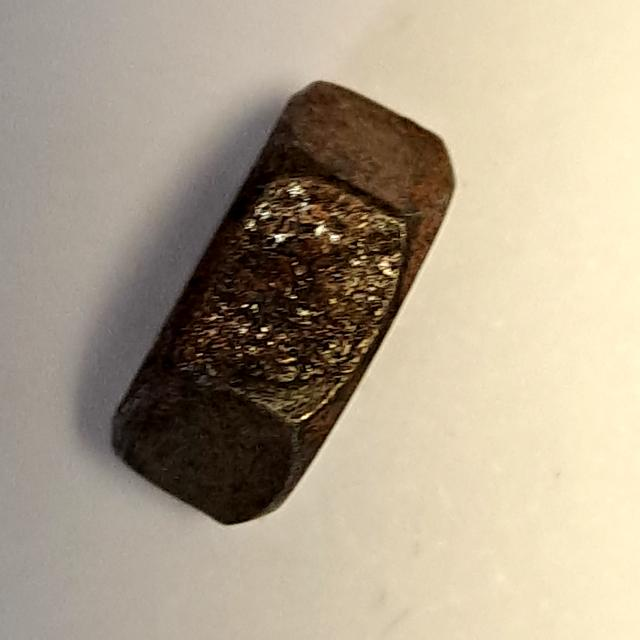Side_Rust: (98, 73, 466, 541)
